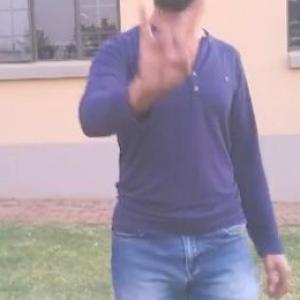takeoff-hand: (129, 0, 208, 98)
